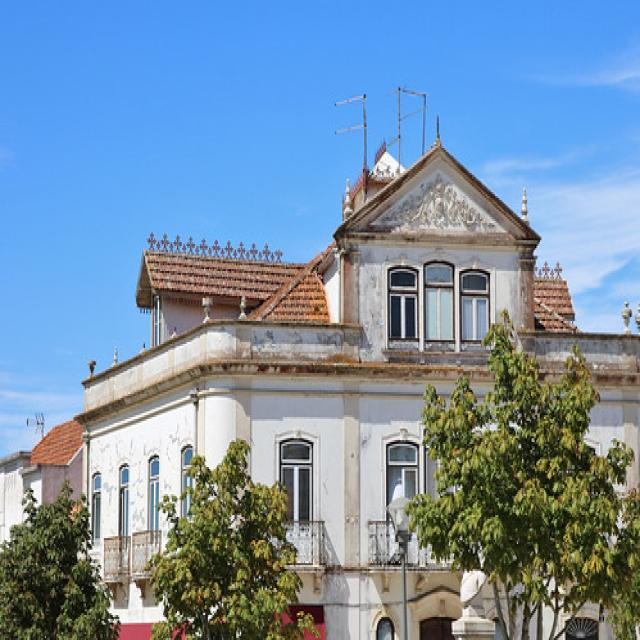building: (74, 136, 640, 640)
